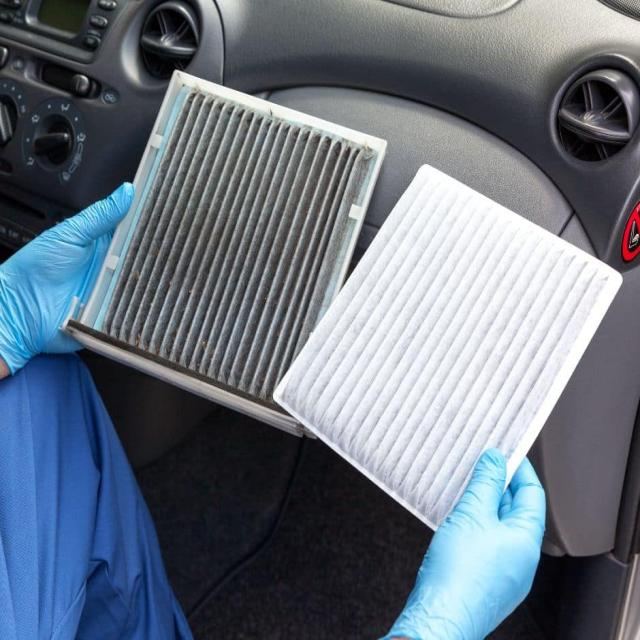air_filter: (270, 164, 622, 540), (68, 67, 393, 439)
